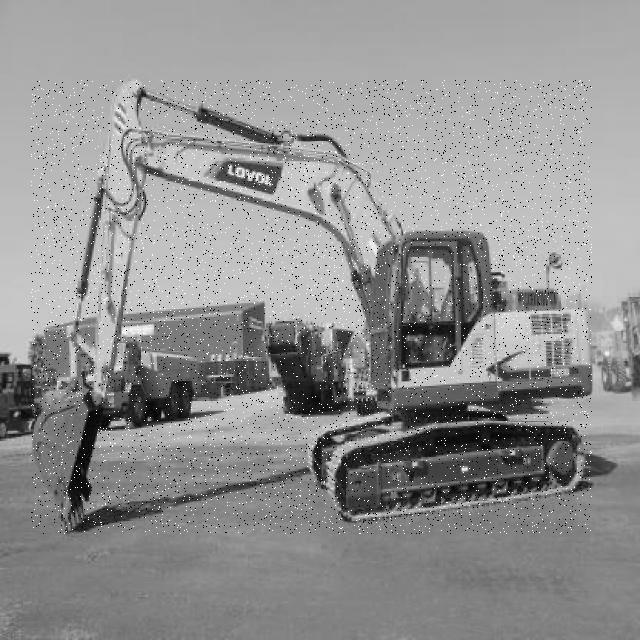Construction Equipment: (31, 80, 592, 534)
